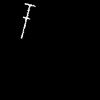double_crochet: (21, 3, 33, 37)
